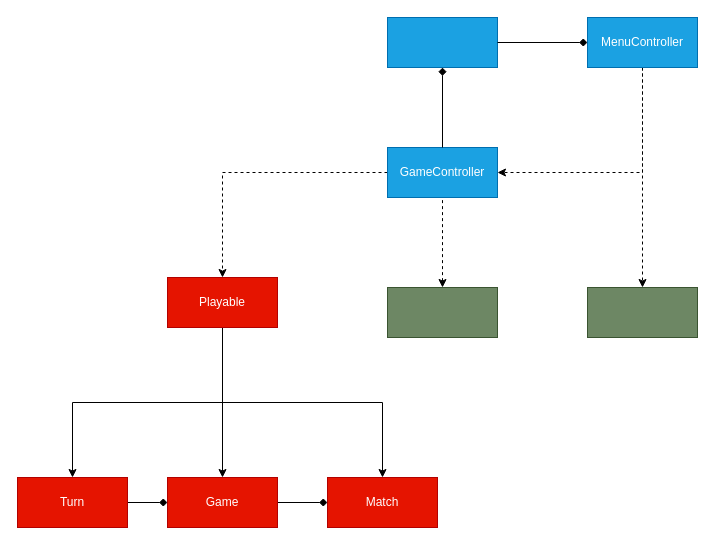
Image size: 715x545. Some labels were removed from this diagram. Each missing label, with the centre of its shape:
CLIMenu: point (642, 312)
CLIView: point (442, 312)
MatchController: point (442, 42)
